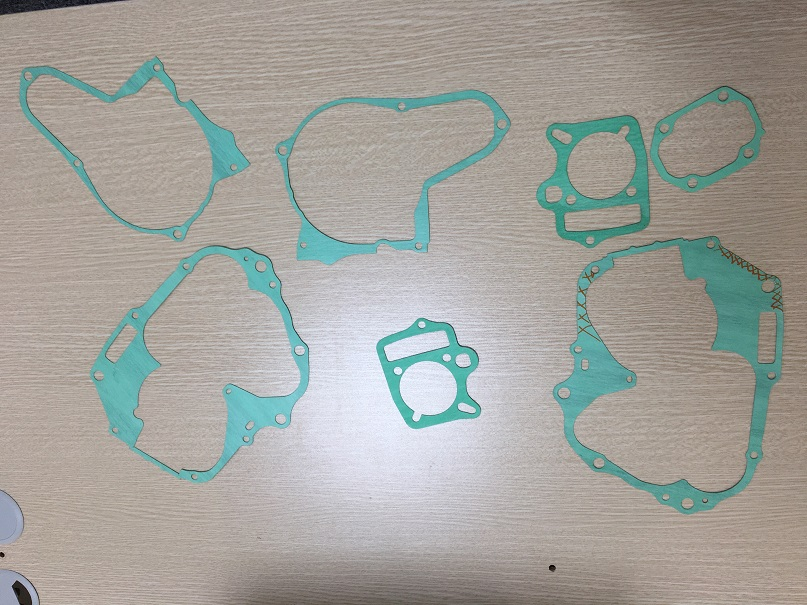type1: (13, 54, 257, 245), (275, 84, 516, 266)
type2: (648, 79, 770, 198)
type3: (557, 236, 786, 518), (78, 236, 329, 485)
type4: (532, 113, 660, 248), (369, 308, 493, 438)
